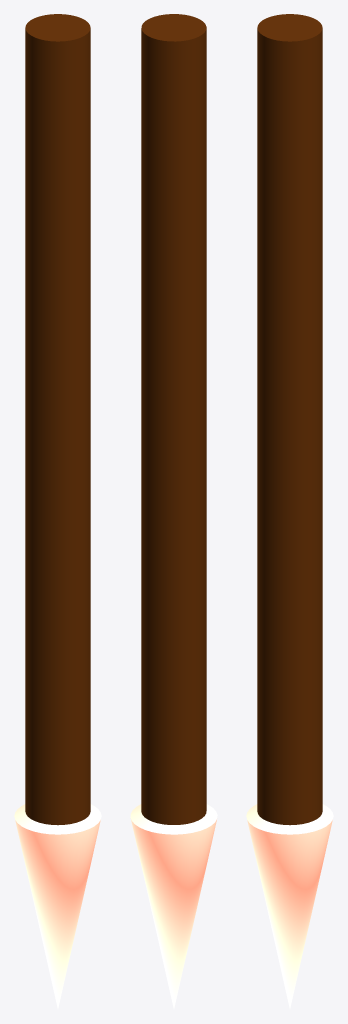
The model's file is arrow.fbx.
3 views of the same model, side by side, from view 1: azimuth 90°, elevation 25°; view 2: azimuth 150°, elevation 25°; view 3: azimuth 270°, elevation 25° (orthographic).
Visible parts, largest first — view 1: arrow; view 2: arrow; view 3: arrow.
Boxes of the visible parts, left/top/right/bottom form: arrow: left=14, top=14, right=101, bottom=1008; arrow: left=130, top=14, right=217, bottom=1008; arrow: left=246, top=14, right=333, bottom=1008.
Size of the model in its own units: 194 by 2407 by 194.
